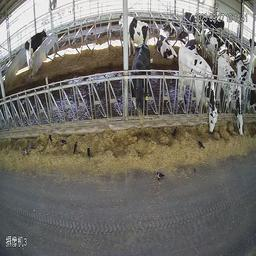cow: (178, 45, 218, 134), (218, 57, 243, 137), (129, 45, 150, 120), (117, 14, 151, 46), (24, 26, 47, 64), (241, 60, 255, 115), (158, 25, 177, 58), (178, 30, 198, 53), (202, 29, 219, 56), (184, 10, 197, 35), (242, 48, 254, 74), (199, 14, 217, 29), (219, 36, 230, 57), (233, 44, 244, 64), (215, 20, 225, 30)
